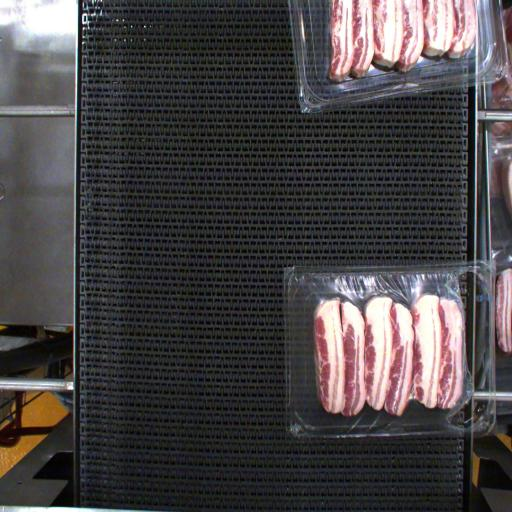unsealed: (285, 261, 496, 428)
